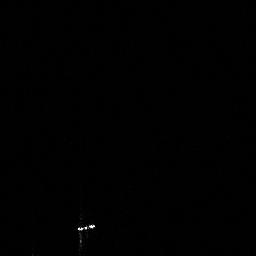ship: (75, 222, 97, 233)
